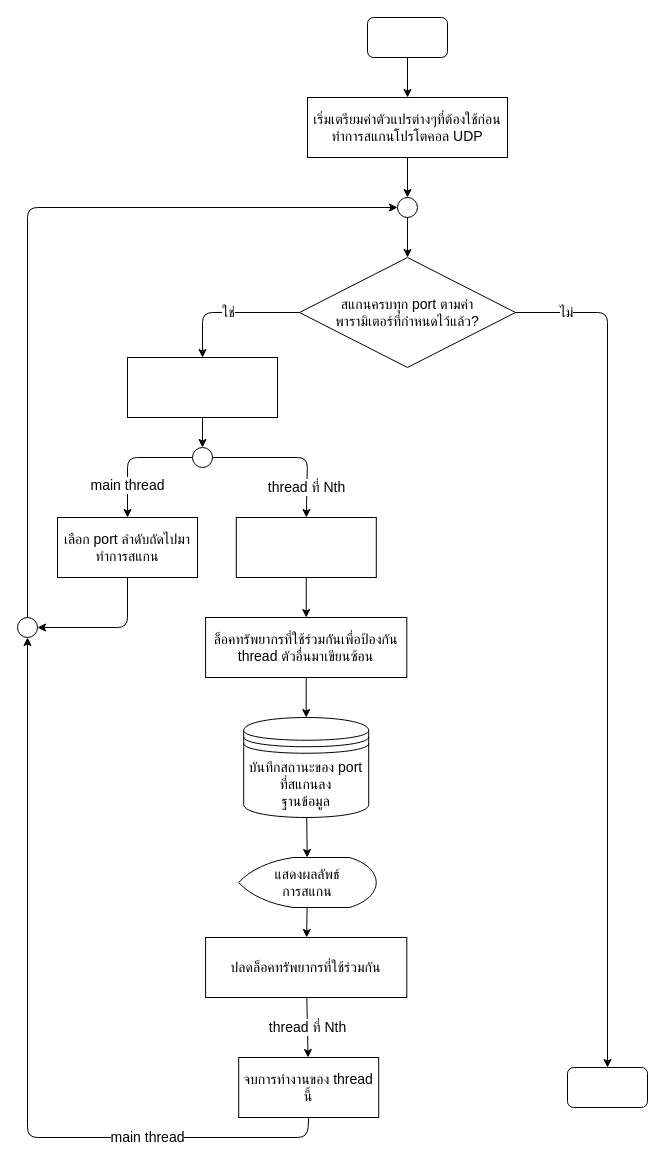
This 665x1163 diagram has some shape labels left out. Here are the shapes that lost their labels. From the top down, the centre of each, then its label:
(407,37): เริ่ม
(202,387): สร้าง thread แยกขึ้นมาเพื่อดำเนินการสแกน
(305,547): ทำการสแกน port ที่เลือกมาสแกน
(607,1087): จบ
